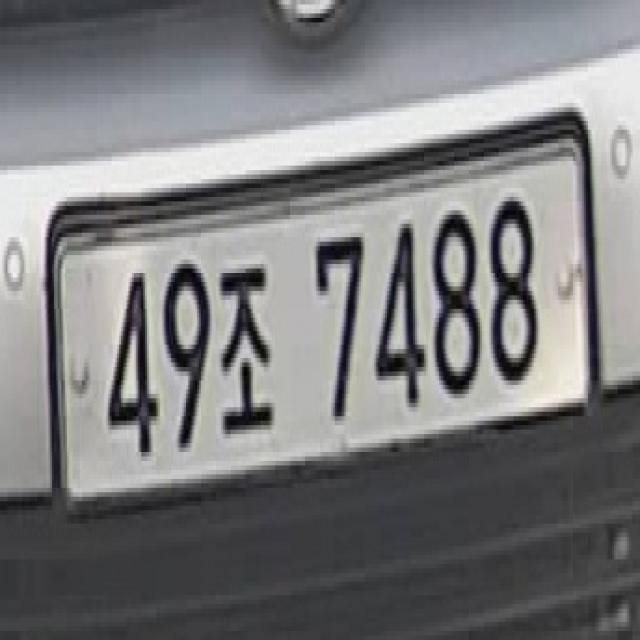4: (99, 252, 161, 472), (378, 206, 428, 422)
7: (309, 227, 366, 437)
8: (484, 194, 552, 404), (434, 193, 478, 414)
9: (164, 258, 212, 466)
jo: (218, 242, 276, 450)
license_plate: (34, 90, 608, 553)
